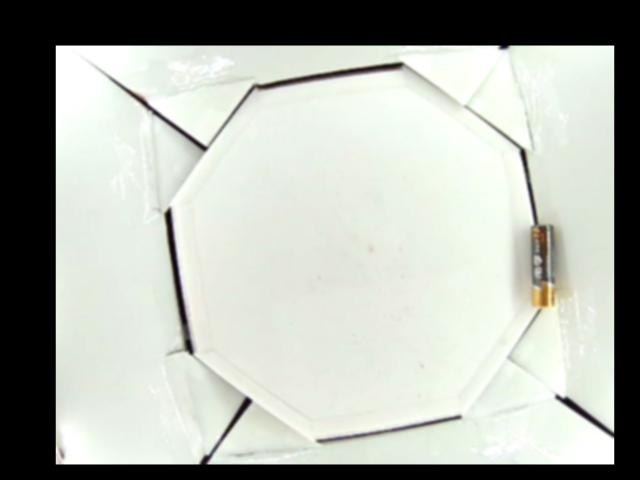Battery: (527, 221, 554, 309)
